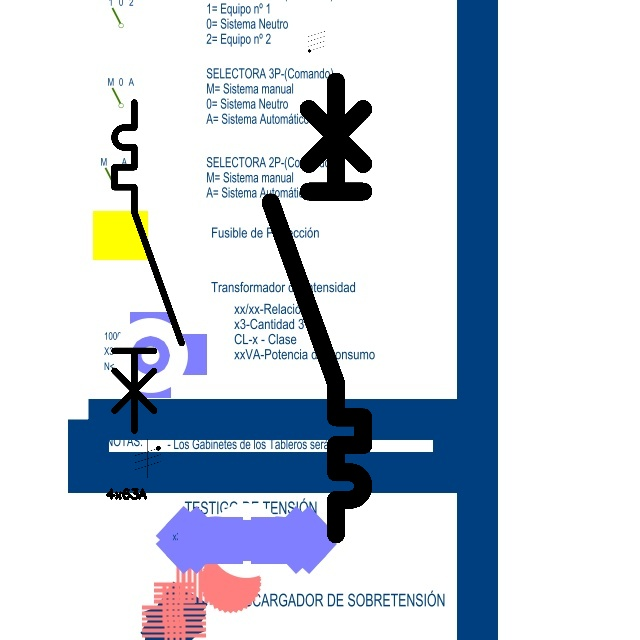interruptor_termomagnetico: (259, 69, 375, 545), (106, 94, 190, 439)
